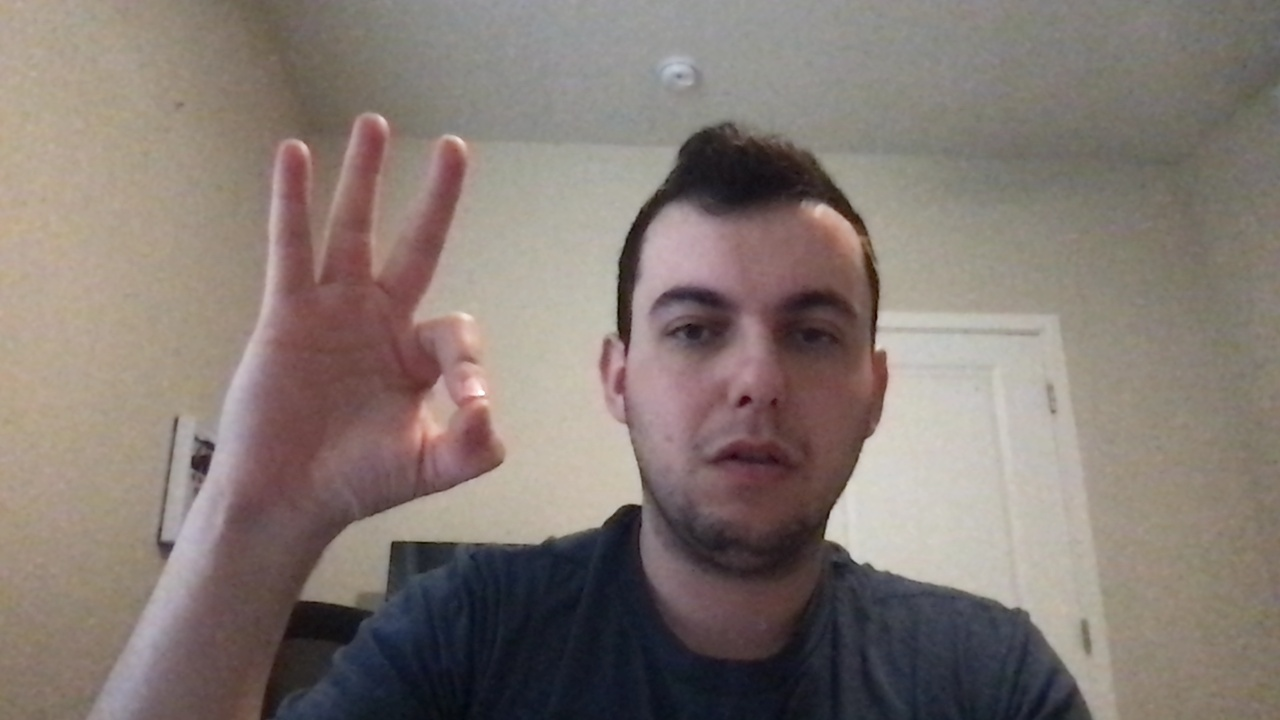f: (193, 94, 540, 542)
